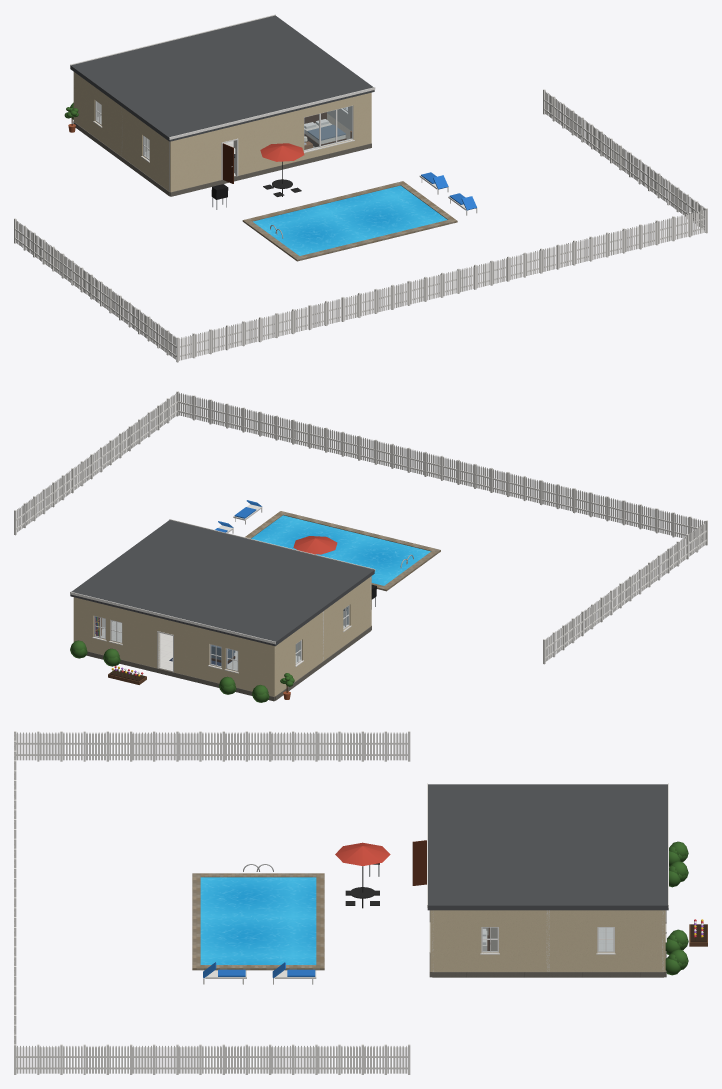
Rendered from house_S5.glb.
3 renders of one model, top to bottom at view 1: azimuth 30°, elevation 25°; view 2: azimuth 150°, elevation 25°; view 3: azimuth 270°, elevation 25°, orthographic. The views are drawn at different scales.
Parts seen in each view (by area): view 1: house_S5; view 2: house_S5; view 3: house_S5.
Boxes of the visible parts, bbox=[...] form: house_S5: bbox=[14, 14, 707, 362]; house_S5: bbox=[14, 391, 707, 702]; house_S5: bbox=[14, 731, 707, 1074].
Size of the model in its own units: 32.1 by 3.58 by 29.95.
Materials: 49 (9 with a texture image).
